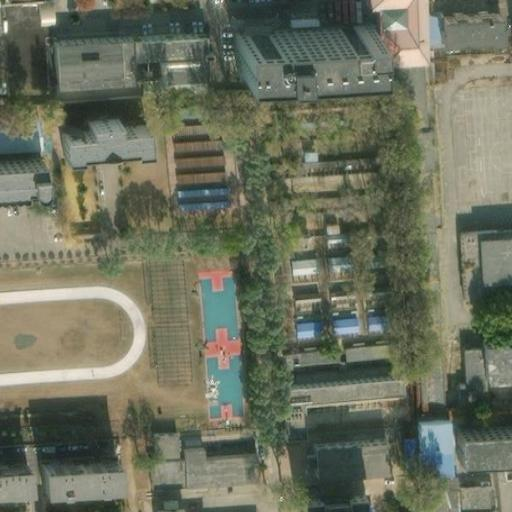building: (232, 19, 371, 67), (275, 368, 392, 400), (51, 32, 130, 78), (127, 27, 204, 73), (454, 233, 512, 293), (58, 115, 144, 155), (305, 427, 384, 468), (175, 444, 250, 483), (38, 466, 112, 500), (452, 420, 512, 460), (142, 425, 178, 485), (437, 2, 495, 39), (411, 417, 446, 478), (416, 357, 448, 412), (37, 449, 110, 470), (175, 180, 231, 207), (0, 115, 45, 147), (0, 158, 38, 195), (300, 490, 363, 512), (481, 343, 512, 385), (174, 149, 226, 172), (451, 482, 488, 512), (460, 345, 484, 388), (275, 342, 334, 359), (333, 337, 380, 354), (291, 288, 324, 309), (329, 287, 356, 307), (498, 474, 512, 511), (361, 307, 384, 327), (282, 251, 305, 270), (322, 248, 345, 267), (360, 244, 383, 263), (328, 311, 351, 330), (288, 314, 311, 333)
